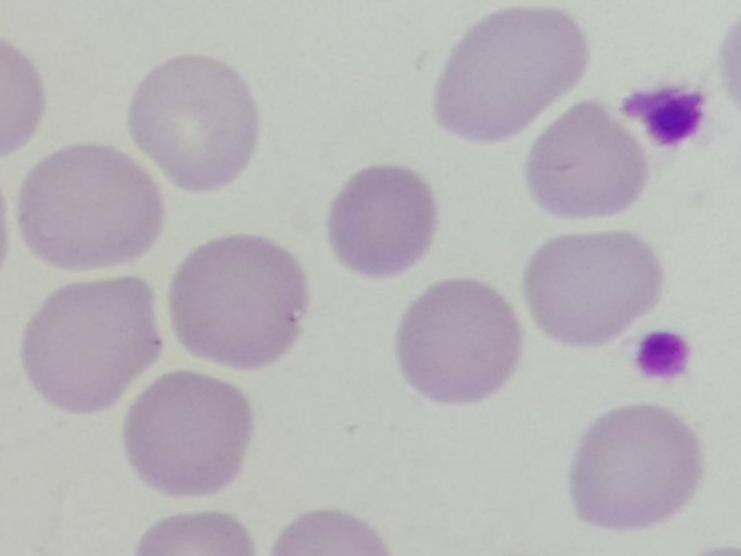Uninfected: (434, 7, 589, 137), (168, 234, 306, 372), (24, 276, 163, 413), (16, 142, 165, 266), (128, 56, 258, 190), (122, 369, 254, 497), (572, 402, 703, 528), (396, 277, 522, 400), (524, 231, 661, 344), (524, 98, 651, 219), (327, 164, 435, 276)
